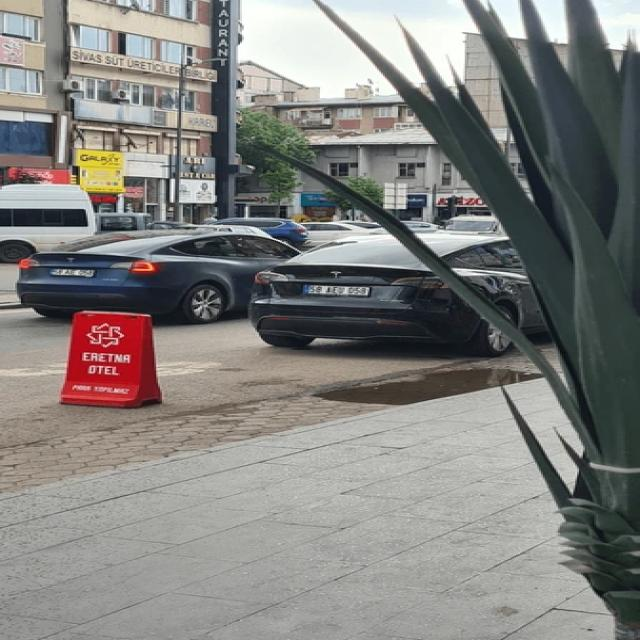tesla: (328, 269, 347, 281), (63, 254, 79, 264)
